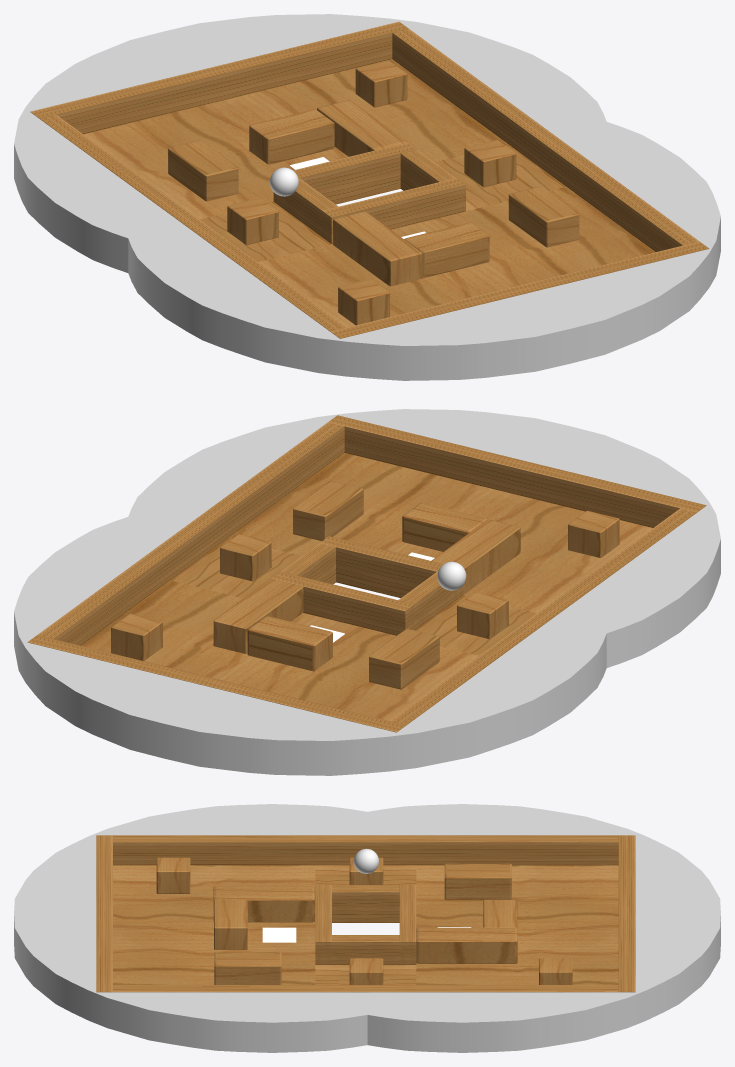
3 renders of one model, top to bottom at view 1: azimuth 30°, elevation 25°; view 2: azimuth 150°, elevation 25°; view 3: azimuth 270°, elevation 25°, orthographic. The views are drawn at different scales.
Visible parts, largest first — view 1: Wall_Out_line_cylinder, Floor_1 (×2), Wall_Out_line_cylinder001, Wall_Out_line__3 (×2), Wall_Out_line__2 (×2), Wall_In_line__2 (×2), Wall_In_line__1 (×2), Wall_In_line__3 (×2), Floor_2 (×2), Wall_In_line__4 (×2), Wall_Out_line__4, Wall_Out_line__1 (+5 smaller); view 2: Wall_Out_line_cylinder001, Floor_1 (×2), Wall_Out_line_cylinder, Wall_Out_line__2 (×2), Wall_Out_line__1, Wall_Out_line__3 (×2), Wall_In_line__1 (×2), Wall_In_line__3 (×2), Wall_In_line__2 (×2), Wall_Out_line__4, Wall_In_line__4 (×2), Floor_2 (×2) (+5 smaller); view 3: Wall_Out_line_cylinder001, Wall_Out_line_cylinder, Floor_1 (×2), Wall_Out_line__4, Wall_Out_line__2 (×2), Wall_In_line__1 (×2), Wall_Out_line__3 (×2), Wall_In_line__3 (×2), Wall_In_line__2 (×2), Wall_In_line__4 (×2), Floor_2 (×2), Wall_Out_line__1 (+6 smaller).
Boxes of the visible parts, <box> form: Wall_Out_line_cylinder: <box>128,121,720,380</box>; Floor_1 (×2): <box>84,59,655,327</box>; Wall_Out_line_cylinder001: <box>14,14,606,272</box>; Wall_Out_line__3 (×2): <box>30,21,416,208</box>; Wall_Out_line__2 (×2): <box>322,28,699,251</box>; Wall_In_line__2 (×2): <box>333,140,516,286</box>; Wall_In_line__1 (×2): <box>249,100,406,164</box>; Wall_In_line__3 (×2): <box>168,140,489,277</box>; Floor_2 (×2): <box>200,144,566,261</box>; Wall_In_line__4 (×2): <box>227,186,579,247</box>; Wall_Out_line__4: <box>40,114,346,331</box>; Wall_Out_line__1: <box>330,241,709,338</box>; Wall_Out_line_cylinder001: <box>14,516,606,775</box>; Floor_1 (×2): <box>81,453,652,720</box>; Wall_Out_line_cylinder: <box>128,409,720,667</box>; Wall_Out_line__2 (×2): <box>37,422,463,645</box>; Wall_Out_line__1: <box>328,415,706,527</box>; Wall_Out_line__3 (×2): <box>27,571,414,732</box>; Wall_In_line__1 (×2): <box>213,579,332,671</box>; Wall_In_line__3 (×2): <box>369,502,487,689</box>; Wall_In_line__2 (×2): <box>220,519,520,594</box>; Wall_Out_line__4: <box>390,508,696,725</box>; Wall_In_line__4 (×2): <box>293,481,508,639</box>; Floor_2 (×2): <box>170,538,536,655</box>; Wall_Out_line_cylinder001: <box>367,804,720,1052</box>; Wall_Out_line_cylinder: <box>14,804,367,1052</box>; Floor_1 (×2): <box>113,865,618,984</box>; Wall_Out_line__4: <box>113,835,618,865</box>; Wall_Out_line__2 (×2): <box>113,885,618,992</box>; Wall_In_line__1 (×2): <box>416,899,517,963</box>; Wall_Out_line__3 (×2): <box>399,835,635,992</box>; Wall_In_line__3 (×2): <box>214,863,511,949</box>; Wall_In_line__2 (×2): <box>213,886,383,984</box>; Wall_In_line__4 (×2): <box>214,857,383,984</box>; Floor_2 (×2): <box>315,865,416,984</box>; Wall_Out_line__1: <box>96,835,112,992</box>.
Size of the model in its own units: 6139 by 762 by 8388.
Materials: 5 (2 with a texture image).
